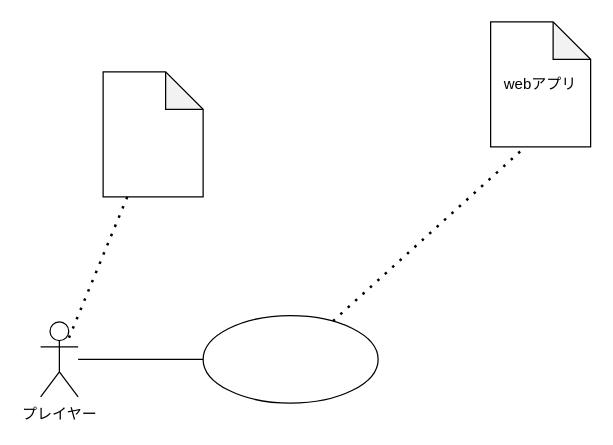
This 613x445 diagram has some shape labels left out. The centre of each missing label's shape, as x and y in pixels:
リバーシ アプリケーション: (x=290, y=358)
１人で交互に白黒打つ: (x=152, y=134)
